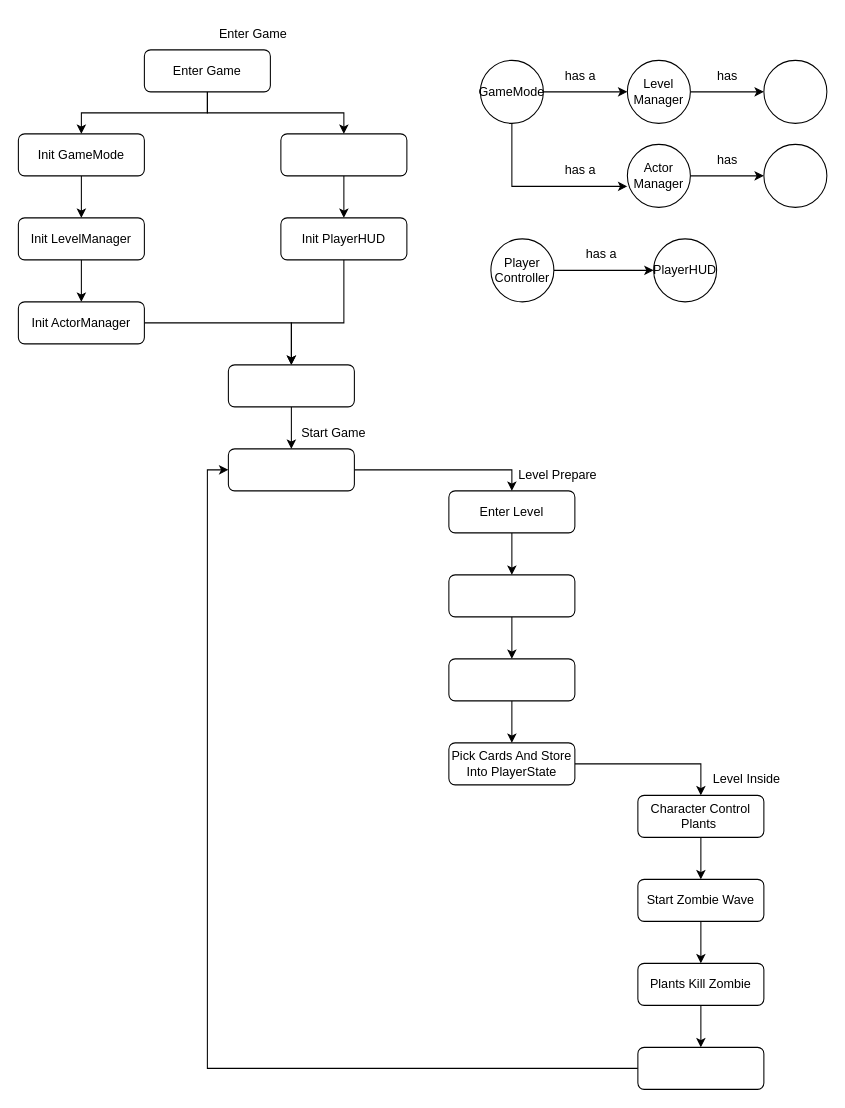
Image size: 845x1108. Some labels were removed from this diagram. Here are the shapes that lost their labels. From the top down, the centre of each, then its label:
pixel 795 91: Level
pixel 343 154: Init PlayerController
pixel 795 175: Actor
pixel 290 385: Ready
pixel 290 469: Load Level
pixel 511 595: Init PlayerCharacter
pixel 511 679: Init PlayerState
pixel 700 1067: Level Settlement
